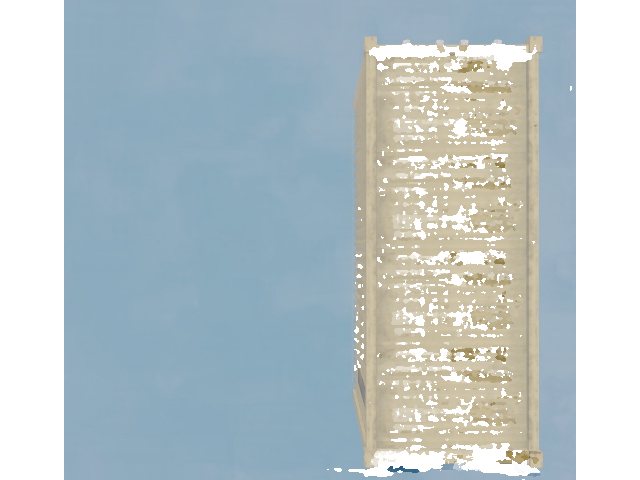container3: (357, 22, 549, 470)
